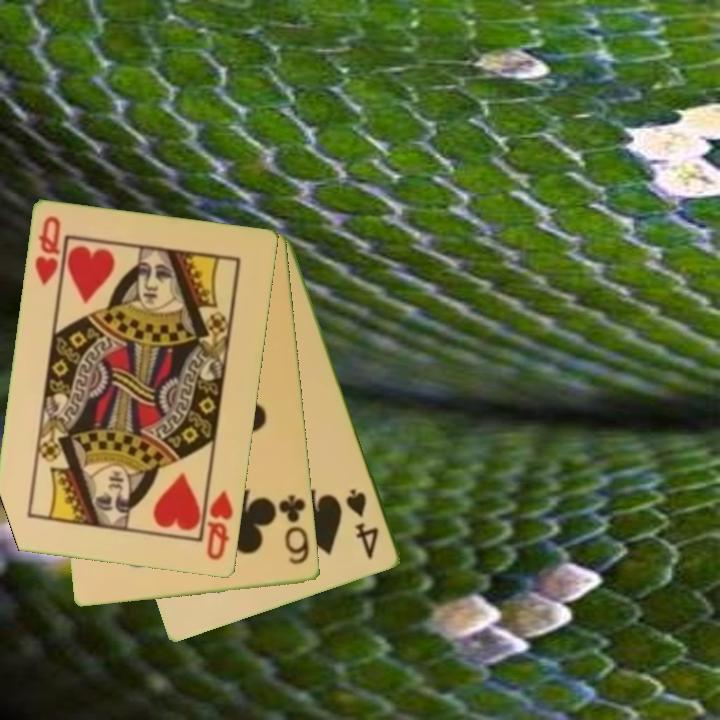4s: (343, 485, 382, 562)
6c: (275, 491, 313, 568)
Qh: (203, 487, 236, 564), (31, 213, 64, 289)
